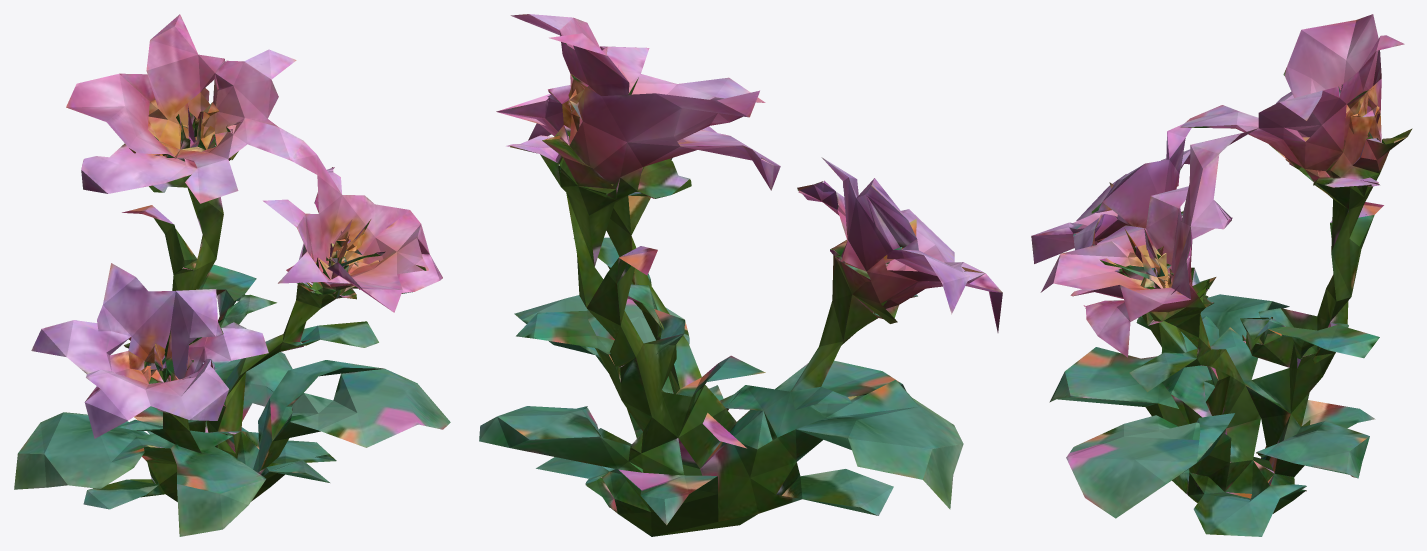
Rendered from fairy_blossom_1116.glb.
The picture shows the model from 3 angles, left to right: view 1: azimuth 30°, elevation 25°; view 2: azimuth 150°, elevation 25°; view 3: azimuth 270°, elevation 25°; orthographic projection. The views are drawn at different scales.
Visible parts, largest first — view 1: world; view 2: world; view 3: world.
Part boxes in pixels (x1,y1,x2,y2): world: (14, 14, 450, 536); world: (479, 14, 1002, 536); world: (1031, 14, 1412, 536).
Size of the model in its own units: 0.9394 by 1 by 0.717.
1 material, 1 textured.
